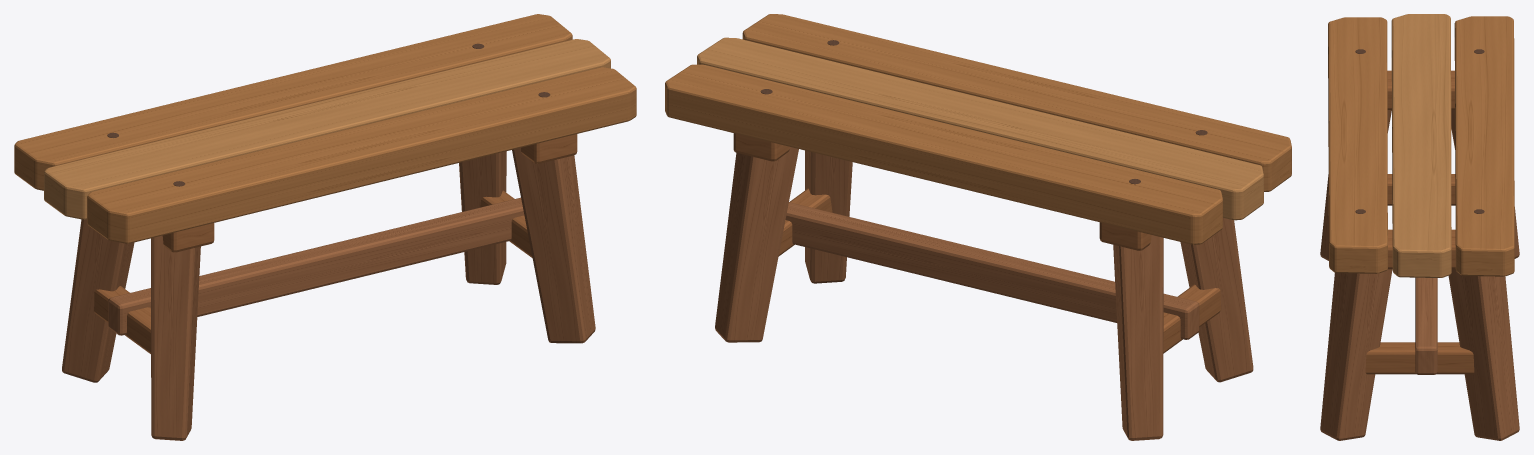
File: SM_GukbapBench.fbx
3 views of the same model, side by side, from view 1: azimuth 30°, elevation 25°; view 2: azimuth 150°, elevation 25°; view 3: azimuth 270°, elevation 25° (orthographic). The views are drawn at different scales.
Visible parts, largest first — view 1: SM_GukbapBench; view 2: SM_GukbapBench; view 3: SM_GukbapBench.
Part boxes in pixels (x1,y1,x2,y2): SM_GukbapBench: (14, 14, 636, 440); SM_GukbapBench: (665, 14, 1291, 440); SM_GukbapBench: (1320, 14, 1519, 440).
Size of what is drawn, in the model's own units: 105 by 37.3 by 44.96.
1 material, 1 textured.
